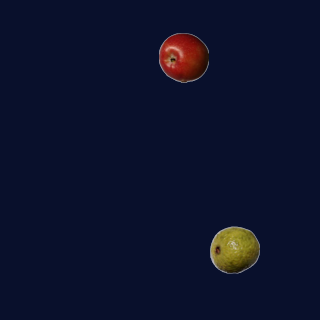Apple Braeburn: (158, 32, 208, 82)
Guava: (209, 224, 259, 274)
